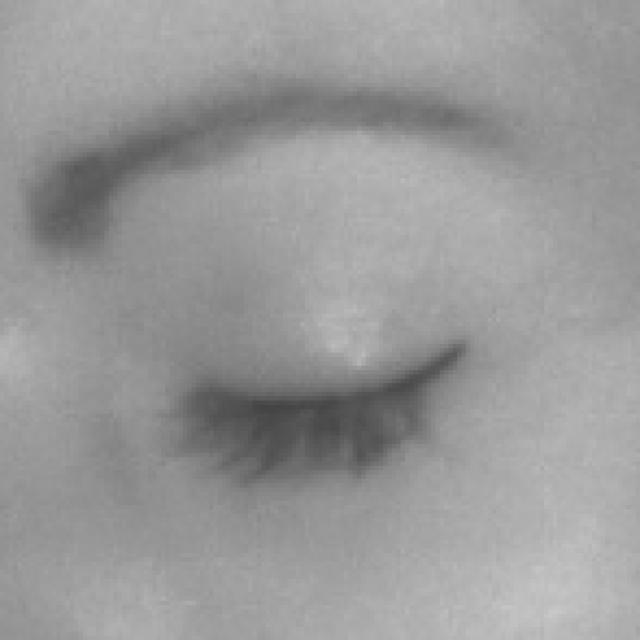close: (21, 64, 601, 581)
